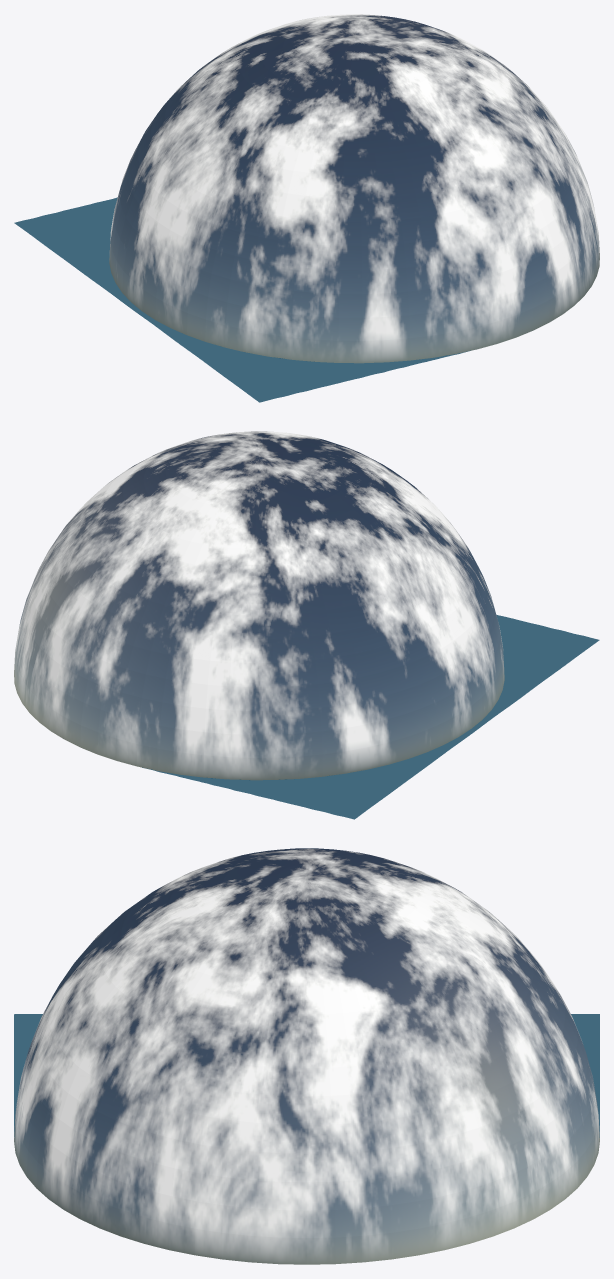
The model's file is terrain-port.glb.
3 views of the same model, one above another, from view 1: azimuth 30°, elevation 25°; view 2: azimuth 150°, elevation 25°; view 3: azimuth 270°, elevation 25° (orthographic). The views are drawn at different scales.
Visible parts, largest first — view 1: SkyDome, Sea; view 2: SkyDome, Sea; view 3: SkyDome, Sea.
Part boxes in pixels (left/top/right/bottom): SkyDome: left=109, top=14, right=599, bottom=363; Sea: left=14, top=197, right=470, bottom=402; SkyDome: left=14, top=431, right=504, bottom=780; Sea: left=142, top=615, right=599, bottom=819; SkyDome: left=14, top=848, right=599, bottom=1264; Sea: left=14, top=1014, right=599, bottom=1137.
Size of the model in its own units: 4050 by 2002 by 4000.
Materials: 258 (9 with a texture image).
